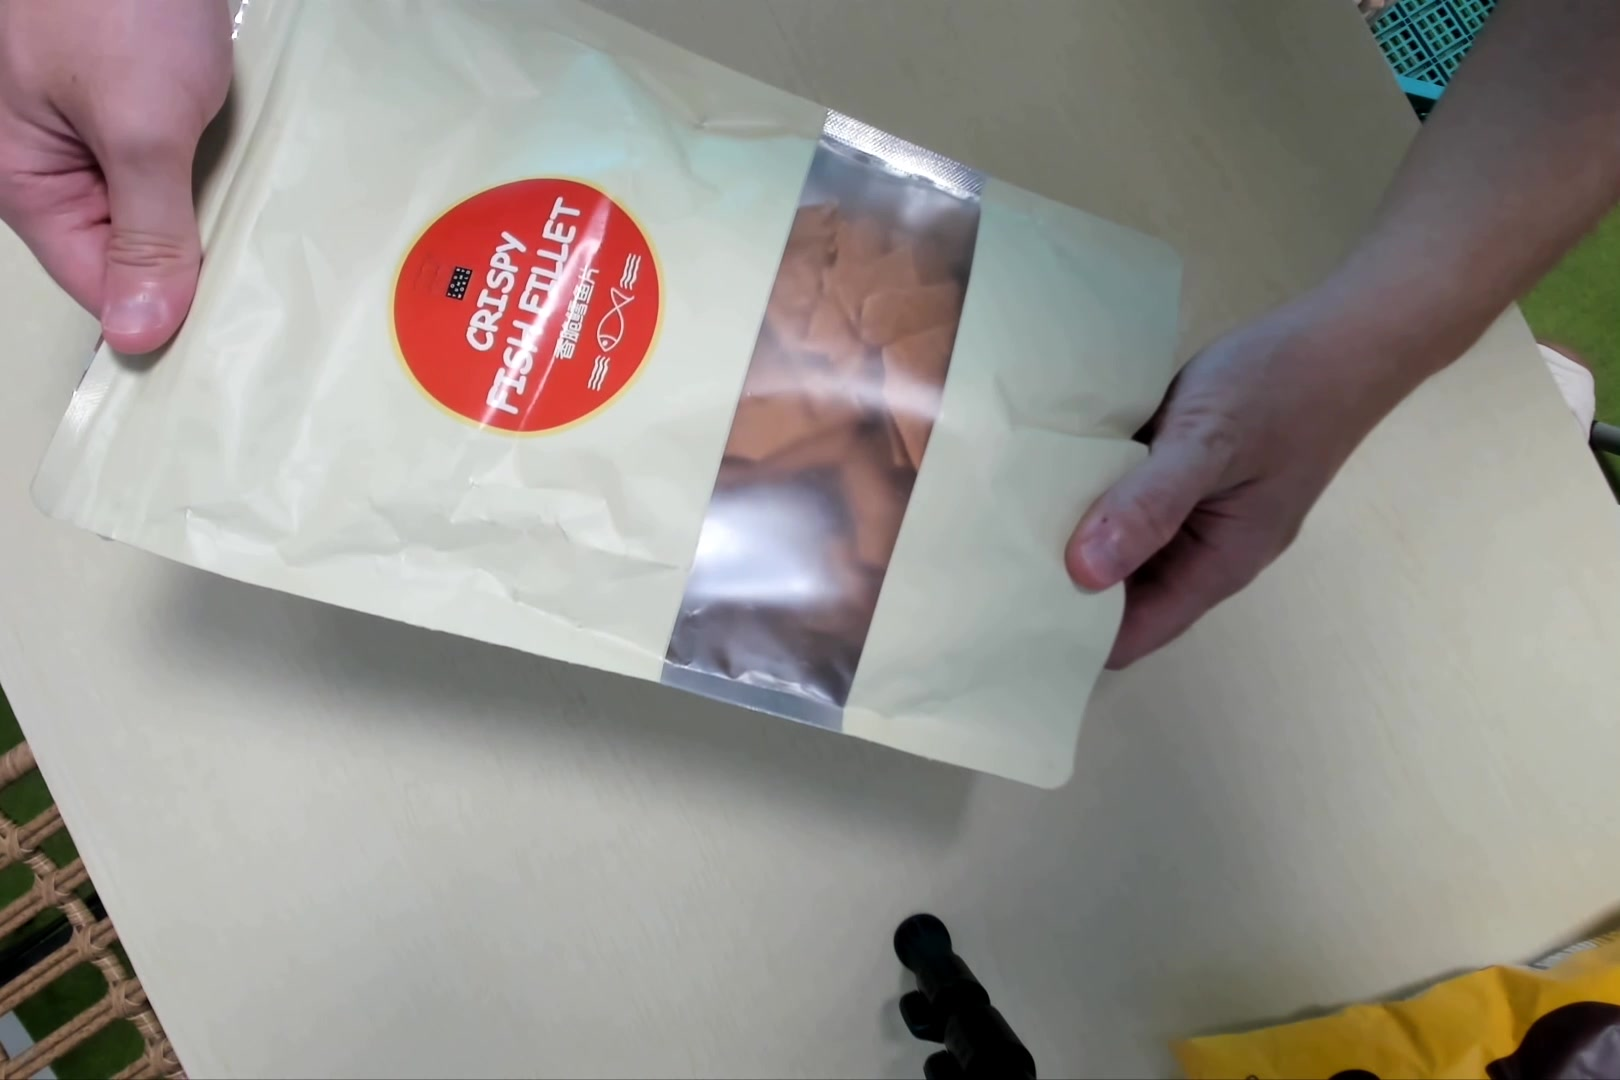PotatoChipsKeropok_100-199g_NonHalal_NonHealthy: (96, 1, 1217, 804)
